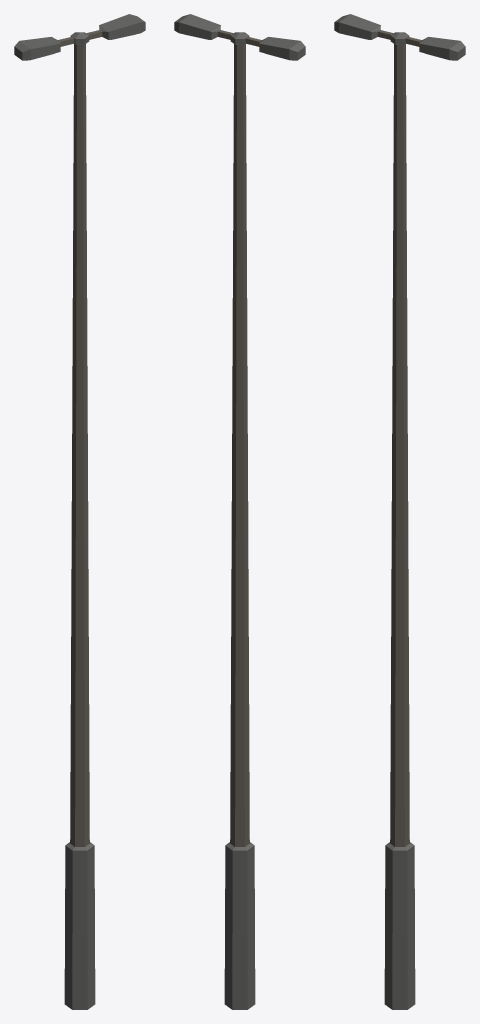
The model's file is SM_Env_Road_Lights_01.glb.
3 views of the same model, side by side, from view 1: azimuth 30°, elevation 25°; view 2: azimuth 150°, elevation 25°; view 3: azimuth 330°, elevation 25° (orthographic).
Parts seen in each view (by area): view 1: SM_Env_Road_Lights_01; view 2: SM_Env_Road_Lights_01; view 3: SM_Env_Road_Lights_01.
Part boxes in pixels (x1,y1,x2,y2): SM_Env_Road_Lights_01: (14,14,145,1009); SM_Env_Road_Lights_01: (174,14,305,1009); SM_Env_Road_Lights_01: (334,14,465,1009).
Size of the model in its own units: 1.42 by 10.68 by 0.3048.
Materials: 1 (1 with a texture image).
